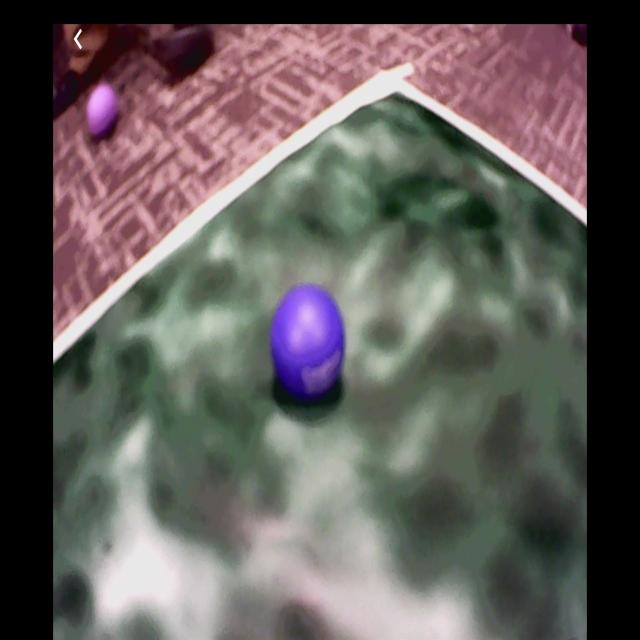ball: (271, 284, 347, 395), (87, 84, 119, 138)
